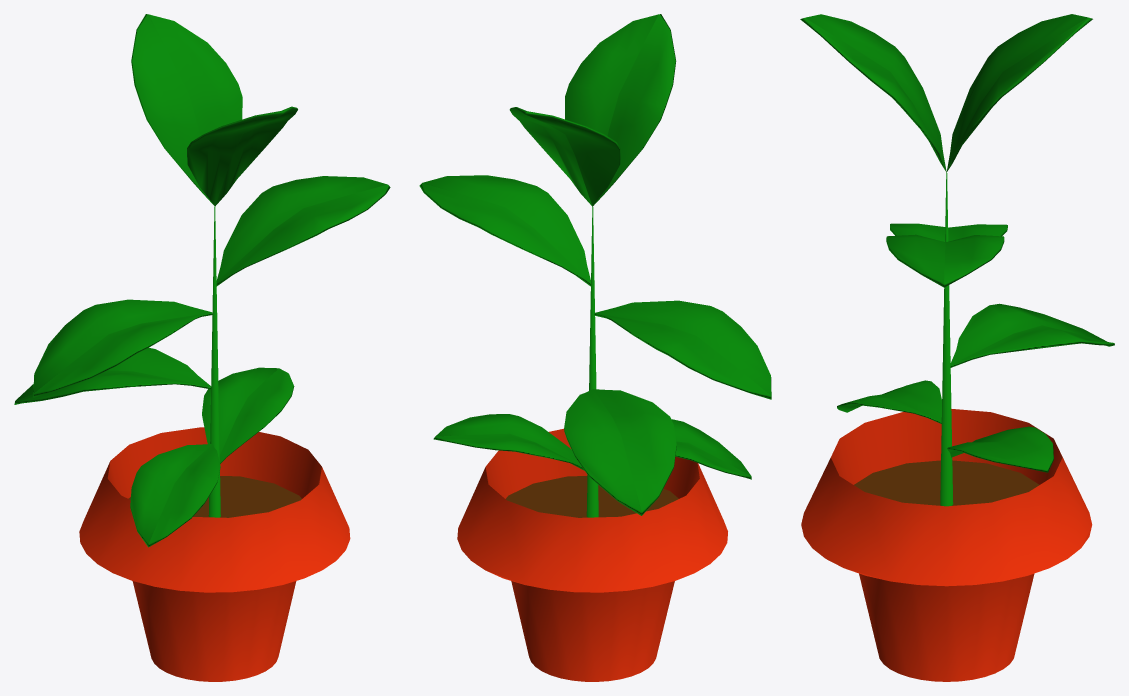
File: Planta para jardín.fbx
The picture shows the model from 3 angles, left to right: view 1: azimuth 30°, elevation 25°; view 2: azimuth 150°, elevation 25°; view 3: azimuth 270°, elevation 25°; orthographic projection. The views are drawn at different scales.
Visible parts, largest first — view 1: Cylinder.002, Cylinder, Cube.001, Cube.005, Cube.004, Cube.008, Cube.009, Cube, Cube.007, Cylinder.001, Cylinder.003; view 2: Cylinder.002, Cylinder, Cube, Cube.007, Cube.004, Cube.005, Cube.001, Cube.009, Cylinder.001, Cube.008, Cylinder.003; view 3: Cylinder.002, Cylinder, Cube.001, Cube, Cylinder.001, Cube.007, Cube.005, Cube.009, Cylinder.003, Cube.008, Cube.004.
Boxes of the visible parts, x1,y1,x2,y2 form: Cylinder.002: (79, 461, 350, 592); Cylinder: (107, 427, 321, 681); Cube.001: (131, 14, 242, 204); Cube.005: (216, 176, 390, 286); Cube.004: (33, 299, 212, 397); Cube.008: (130, 444, 220, 547); Cube.009: (202, 367, 294, 463); Cube: (187, 106, 297, 206); Cube.007: (14, 348, 210, 404); Cylinder.001: (128, 476, 301, 517); Cylinder.003: (208, 206, 220, 517); Cylinder.002: (457, 463, 727, 592); Cylinder: (485, 428, 699, 681); Cube: (565, 14, 676, 205); Cube.007: (564, 389, 676, 515); Cube.004: (594, 300, 771, 399); Cube.005: (419, 175, 590, 286); Cube.001: (509, 107, 620, 206); Cube.009: (433, 414, 584, 470); Cylinder.001: (506, 476, 678, 517); Cube.008: (671, 419, 751, 479); Cylinder.003: (586, 206, 598, 517); Cylinder.002: (801, 454, 1092, 586); Cylinder: (831, 409, 1062, 681); Cube.001: (946, 14, 1092, 171); Cube: (800, 14, 946, 171); Cylinder.001: (854, 460, 1039, 505); Cube.007: (950, 303, 1114, 367); Cube.005: (886, 234, 1004, 287); Cube.009: (947, 426, 1053, 472); Cylinder.003: (940, 172, 953, 506); Cube.008: (837, 380, 941, 423); Cube.004: (890, 223, 1007, 241).
Size of the model in its own units: 970 by 1548 by 695.
